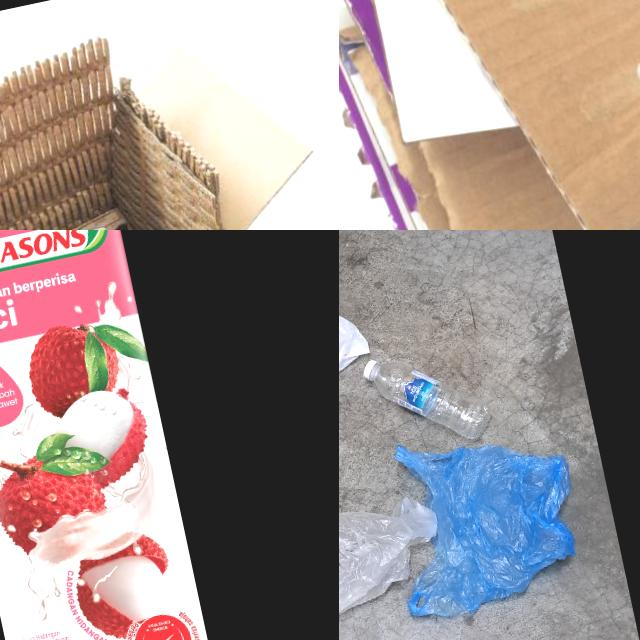caixinha: (0, 230, 219, 640)
garrafa plástica: (371, 344, 495, 456)
papelão: (0, 18, 339, 230), (339, 0, 640, 230)
sacola plástica: (375, 411, 594, 625), (339, 442, 457, 640), (339, 283, 392, 501)
tampa plástica: (361, 358, 382, 381)
